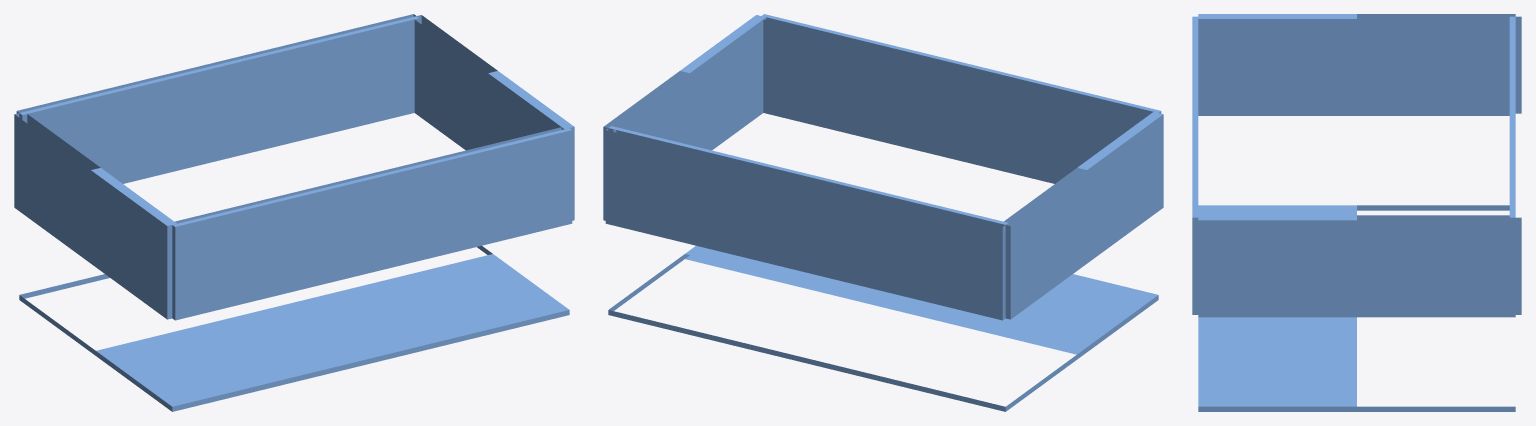
File: roomB.gltf
The picture shows the model from 3 angles, left to right: view 1: azimuth 30°, elevation 25°; view 2: azimuth 150°, elevation 25°; view 3: azimuth 270°, elevation 25°; orthographic projection. The views are drawn at different scales.
Parts seen in each view (by area): view 1: RoomB; view 2: RoomB; view 3: RoomB.
Boxes of the visible parts, x1=… form: RoomB: x1=14, y1=14, x2=574, y2=411; RoomB: x1=603, y1=14, x2=1163, y2=411; RoomB: x1=1192, y1=14, x2=1521, y2=411.
Bounding box in the file's own units: 6.15 × 2.7 × 4.15.
